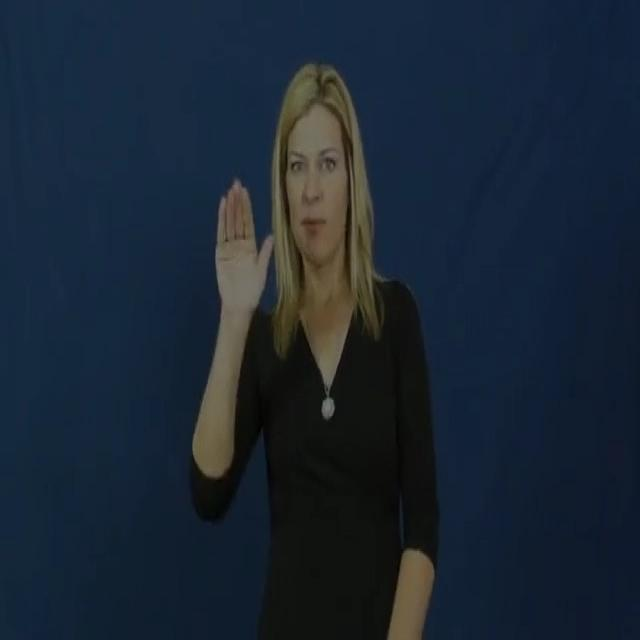bye: (196, 166, 282, 342)
